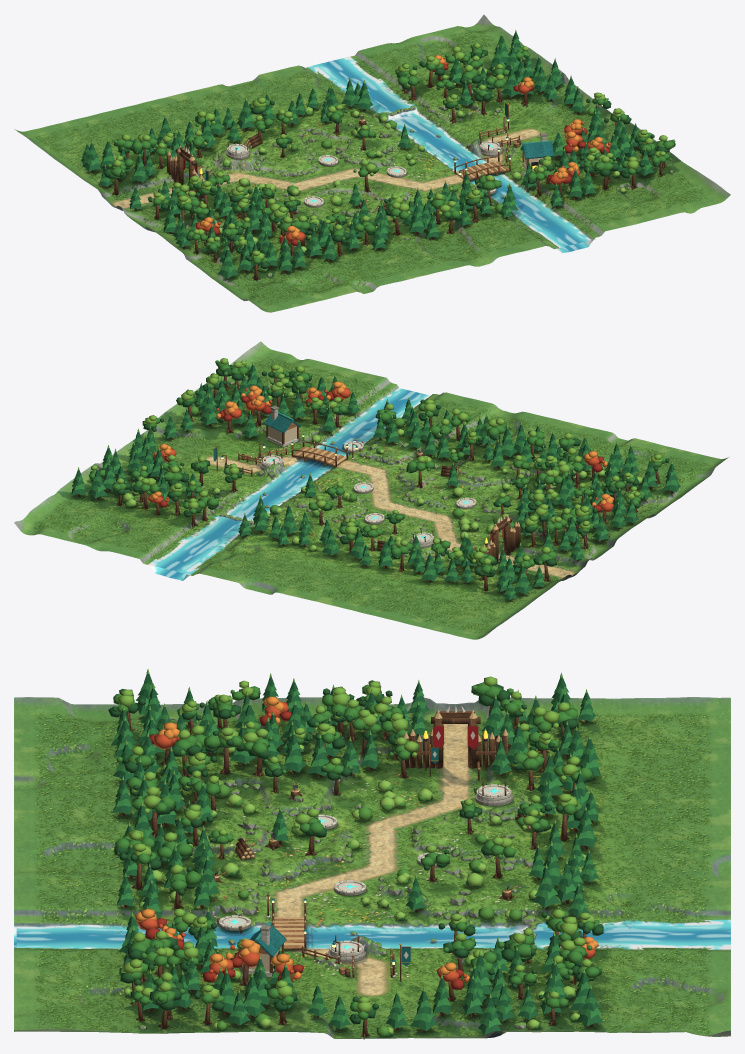
The model's file is battlefield-forest-single.glb.
The picture shows the model from 3 angles, top to bottom: view 1: azimuth 30°, elevation 25°; view 2: azimuth 150°, elevation 25°; view 3: azimuth 270°, elevation 25°; orthographic projection. The views are drawn at different scales.
Parts seen in each view (by area): view 1: Terrain / forest / rt, Water / river with flow streaks.001, Raider camp gate, Bridge / row 430, Village forge house; view 2: Terrain / forest / rt, Water / river with flow streaks.001, Village forge house, Raider camp gate, Bridge / row 430; view 3: Terrain / forest / rt, Water / river with flow streaks.001, Raider camp gate, Village forge house, Bridge / row 430, Tree / broadleaf 22.011, Tree / broadleaf 31.008, Tree / broadleaf 22.006, Tree / broadleaf 22.002, Tree / broadleaf 21.005, Tree / broadleaf 23.020, Tree / broadleaf 24.006 (+27 smaller).
Part boxes in pixels (x1,y1,x2,y2): Terrain / forest / rt: [14, 14, 730, 312]; Water / river with flow streaks.001: [308, 56, 595, 249]; Raider camp gate: [167, 145, 204, 202]; Bridge / row 430: [454, 148, 511, 180]; Village forge house: [520, 132, 554, 170]; Terrain / forest / rt: [14, 341, 728, 639]; Water / river with flow streaks.001: [148, 387, 430, 574]; Village forge house: [264, 406, 300, 446]; Raider camp gate: [483, 515, 520, 563]; Bridge / row 430: [291, 434, 348, 467]; Terrain / forest / rt: [14, 697, 730, 1038]; Water / river with flow streaks.001: [16, 919, 730, 949]; Raider camp gate: [403, 705, 508, 770]; Village forge house: [242, 921, 286, 977]; Bridge / row 430: [271, 898, 306, 951]; Tree / broadleaf 22.011: [132, 786, 175, 837]; Tree / broadleaf 31.008: [225, 939, 261, 986]; Tree / broadleaf 22.006: [242, 728, 272, 776]; Tree / broadleaf 22.002: [293, 808, 326, 855]; Tree / broadleaf 21.005: [169, 864, 201, 909]; Tree / broadleaf 23.020: [471, 676, 513, 715]; Tree / broadleaf 24.006: [119, 843, 161, 889].
Bounding box in the file's own units: 14.2 × 1.51 × 12.93.
Materials: 38 (25 with a texture image).
